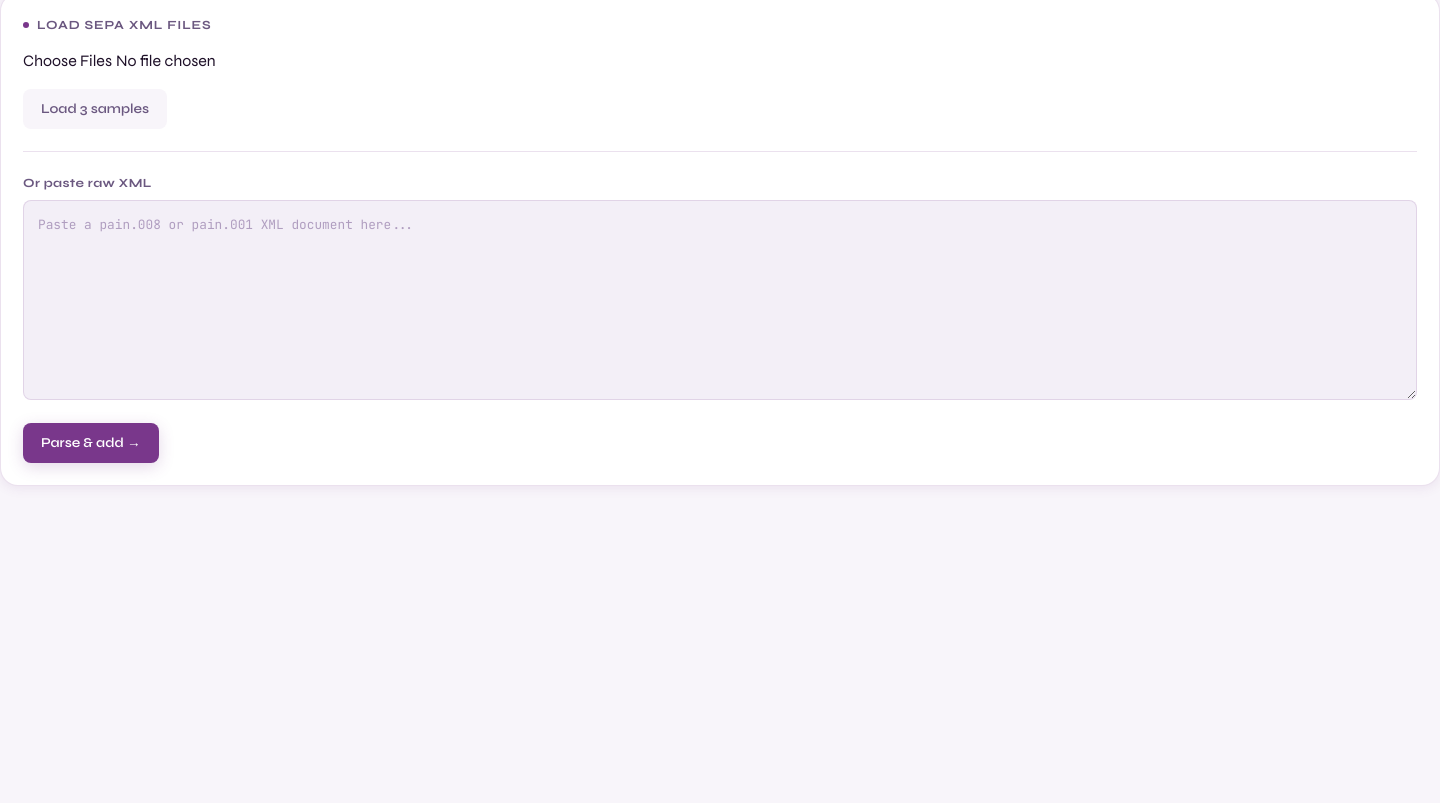
SepaFileVisualizer › parses a pasted pain.001 Credit Transfer file and shows CT-specific columns
The width and height of the screenshot is (1440, 803).
Type "<?xml version=\"1.0\" encoding=\"utf-8\"?><Document xmlns=\"urn:iso:std:iso:20022:tech:xsd:pain.001.001.09\"><CstmrCdtTrfInitn><GrpHdr><MsgId>MSG-CT-1</MsgId><CreDtTm>2026-07-23T10:00:00</CreDtTm><NbOfTxs>1" into the text box with placeholder "Paste a pain.008 or pain.001 XML document here..." at (720, 300), box [23,200,1417,400]
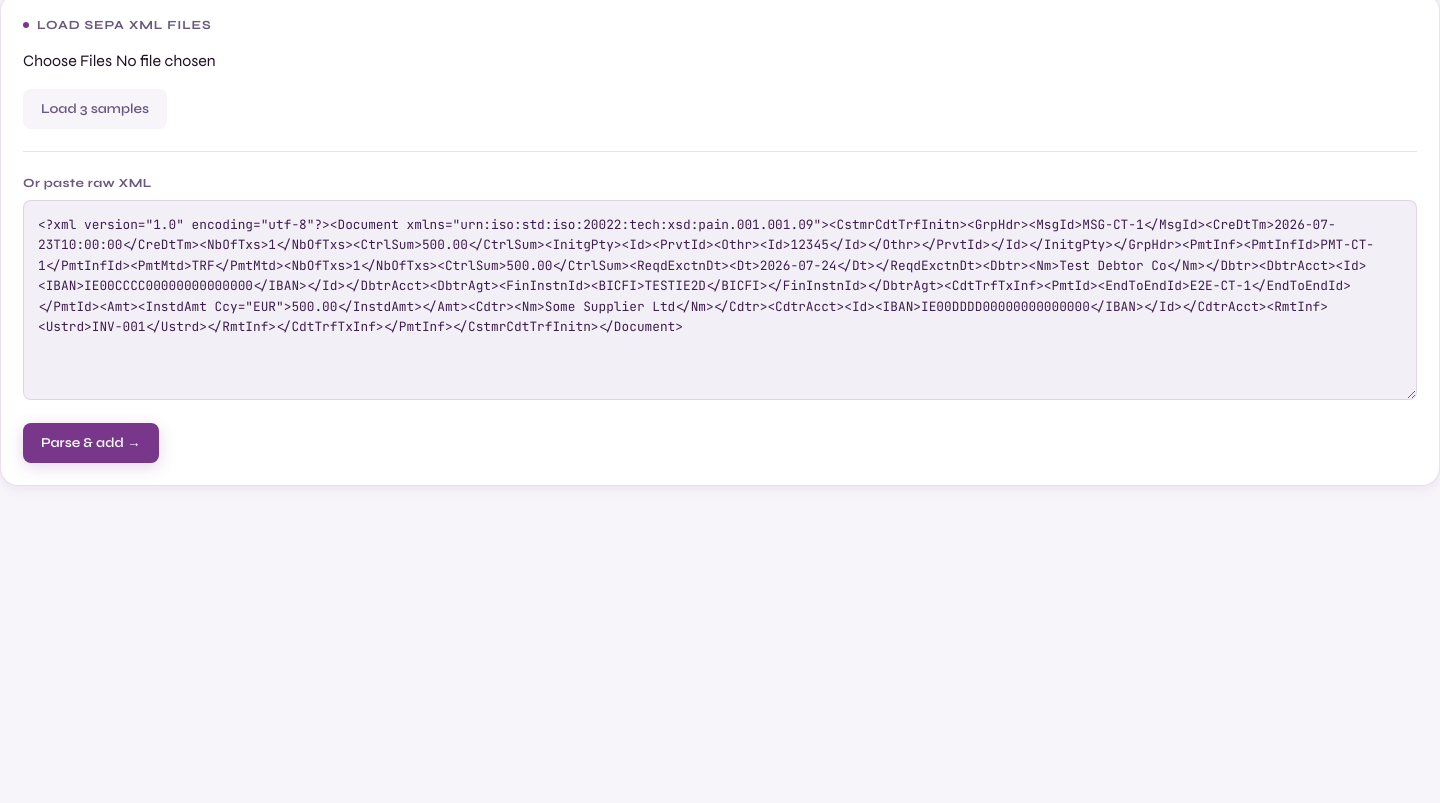
Click the button "Parse & add →" at (91, 443), box [23,423,158,463]
(page scrolled)
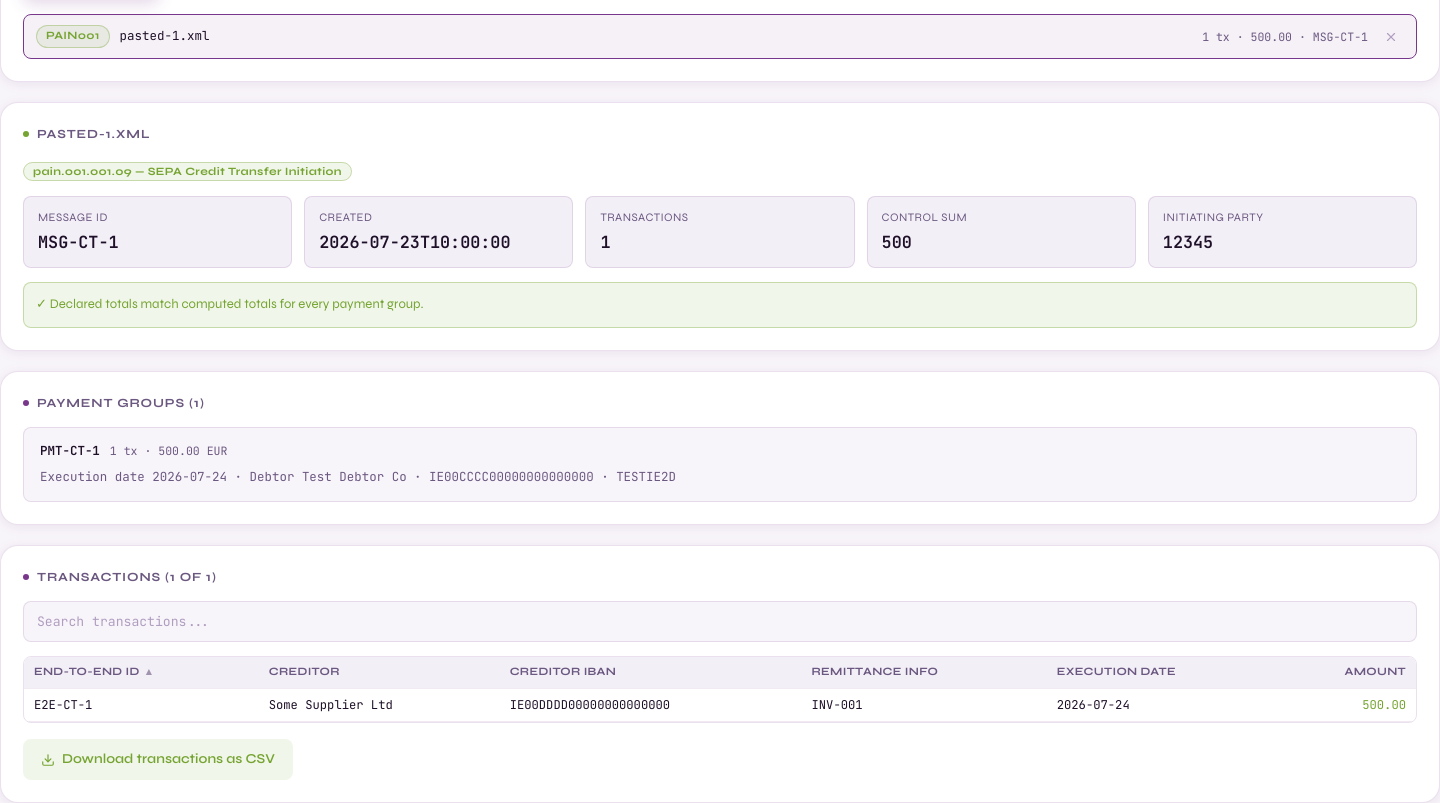
Expected: the text "MSG-CT-1" is shown, [38,231,119,253]
Expected: the text "pain.001.001.09 — SEPA Credit Transfer Initiation" is shown, [23,162,352,181]
Expected: the column heading "Remittance Info" is shown, [802,657,1047,689]
